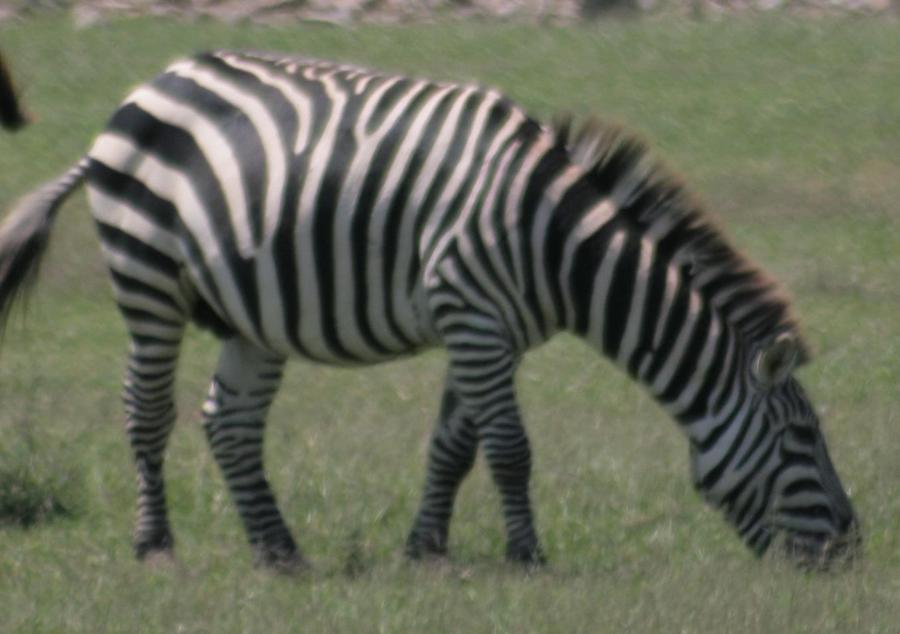zebra_plains: (49, 50, 578, 398)
